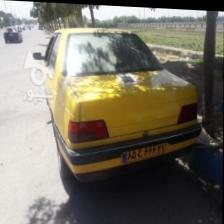plate: (122, 138, 166, 167)
